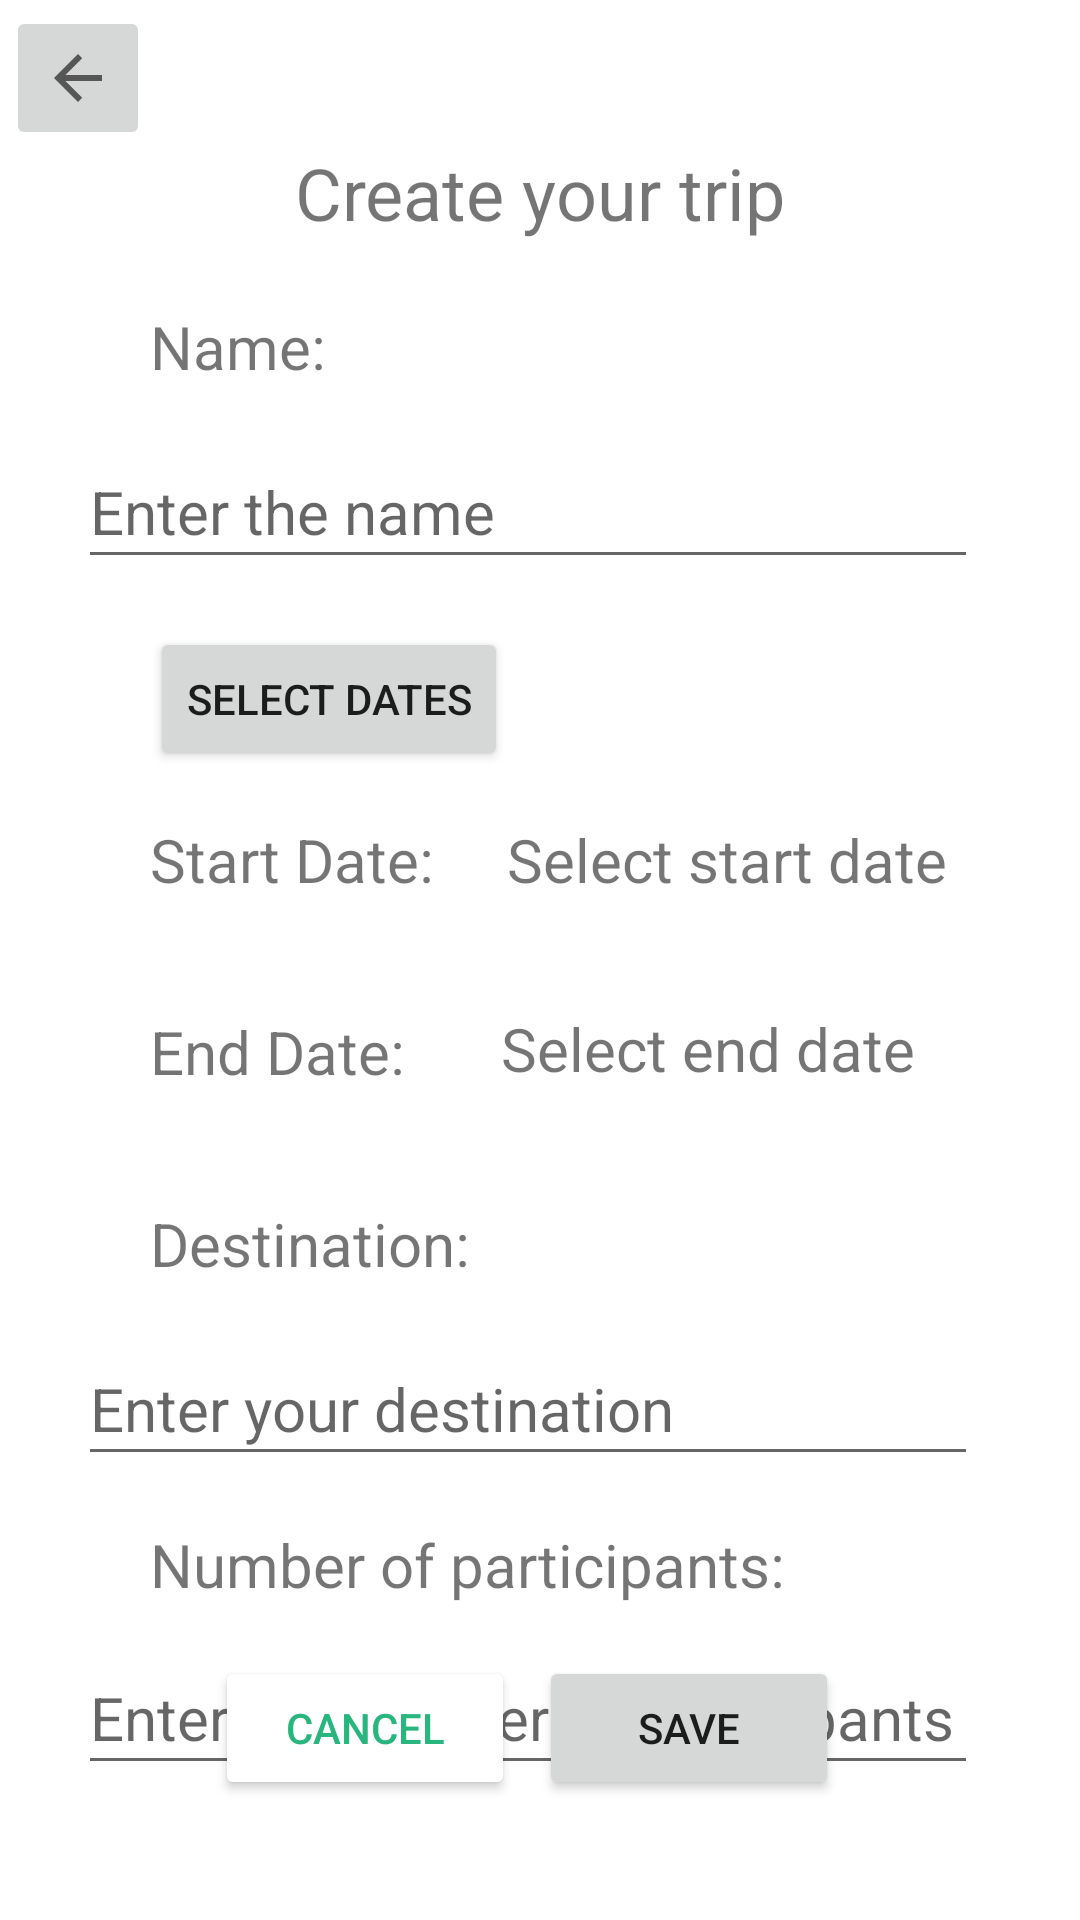

Where icons sit on this 1080px x 1920px app screen, as [x1, y1, x2, y2]:
A button to go back to the Home Screen: [18, 24, 138, 132]
